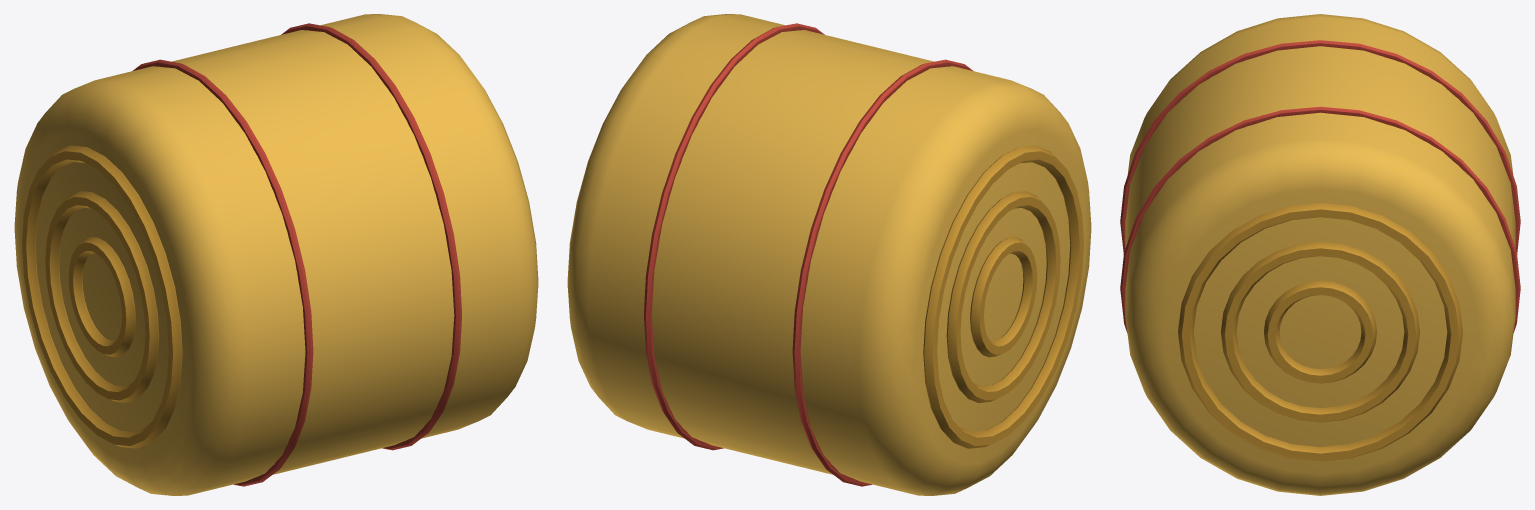
Rendered from vl_bale.glb.
3 renders of one model, left to right at view 1: azimuth 30°, elevation 25°; view 2: azimuth 150°, elevation 25°; view 3: azimuth 270°, elevation 25°, orthographic. The views are drawn at different scales.
Parts seen in each view (by area): view 1: round_bale; view 2: round_bale; view 3: round_bale.
Part boxes in pixels (bbox=[...]): round_bale: bbox=[14, 14, 538, 495]; round_bale: bbox=[567, 14, 1091, 495]; round_bale: bbox=[1120, 14, 1520, 495].
Size of the model in its own units: 1.2 by 1.27 by 1.27.
